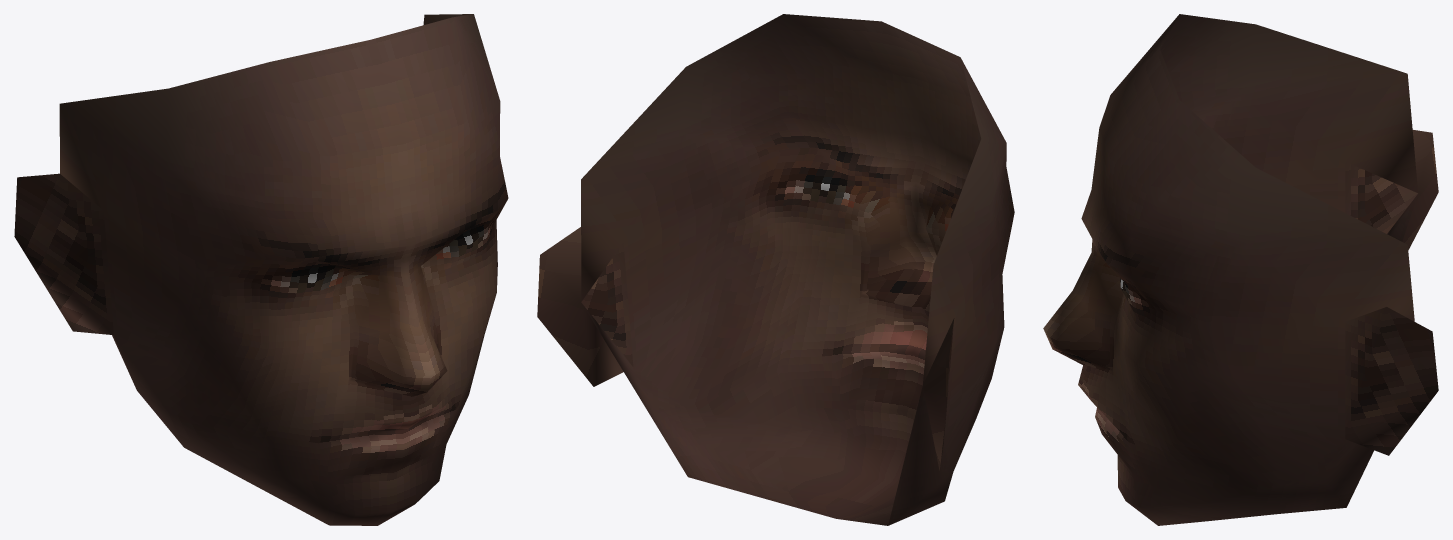
3 renders of one model, left to right at view 1: azimuth 30°, elevation 25°; view 2: azimuth 150°, elevation 25°; view 3: azimuth 270°, elevation 25°, orthographic. The views are drawn at different scales.
Parts seen in each view (by area): view 1: editpl_m-0000-104, editpl_m-0000-103; view 2: editpl_m-0000-104, editpl_m-0000-103; view 3: editpl_m-0000-104, editpl_m-0000-103.
Boxes of the visible parts, <box> form: editpl_m-0000-104: <box>14,14,508,444</box>; editpl_m-0000-103: <box>112,335,468,525</box>; editpl_m-0000-104: <box>537,14,1014,470</box>; editpl_m-0000-103: <box>582,259,970,525</box>; editpl_m-0000-104: <box>1043,14,1438,485</box>; editpl_m-0000-103: <box>1043,194,1417,525</box>.
Bounding box in the file's own units: 17.18 × 18.64 × 14.45.
Materials: 1 (1 with a texture image).
